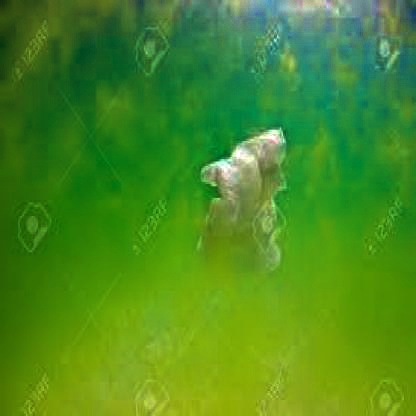pbag: (198, 125, 289, 275)
